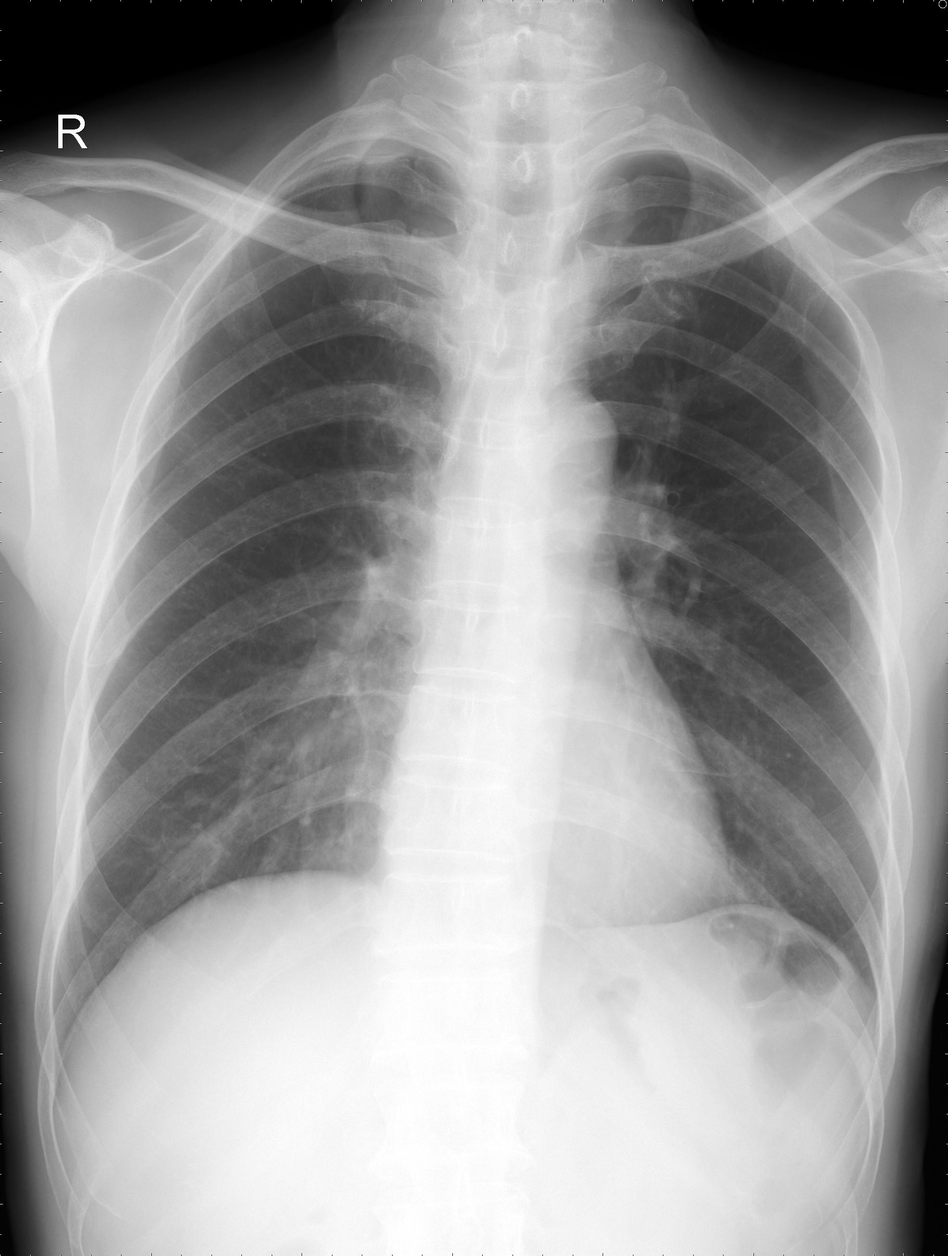Pleural thickening: (304, 130, 413, 161)
